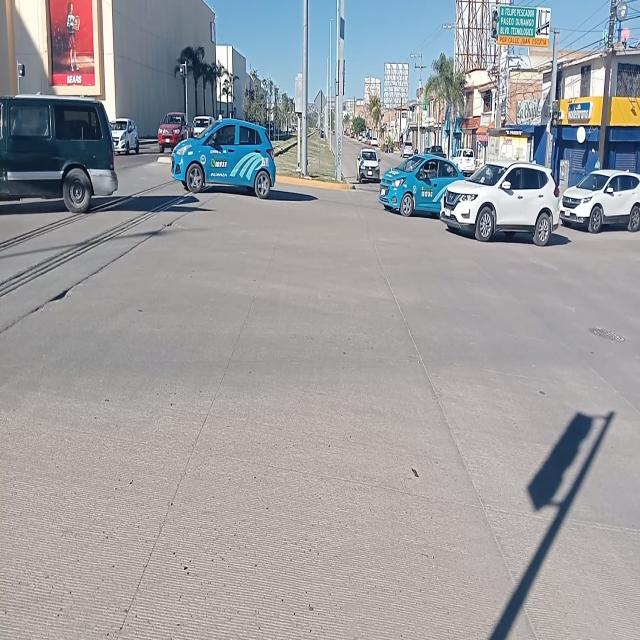Auto: (0, 88, 122, 217), (440, 166, 564, 247), (173, 119, 278, 204), (381, 138, 466, 220), (564, 168, 640, 243), (356, 140, 381, 184)
